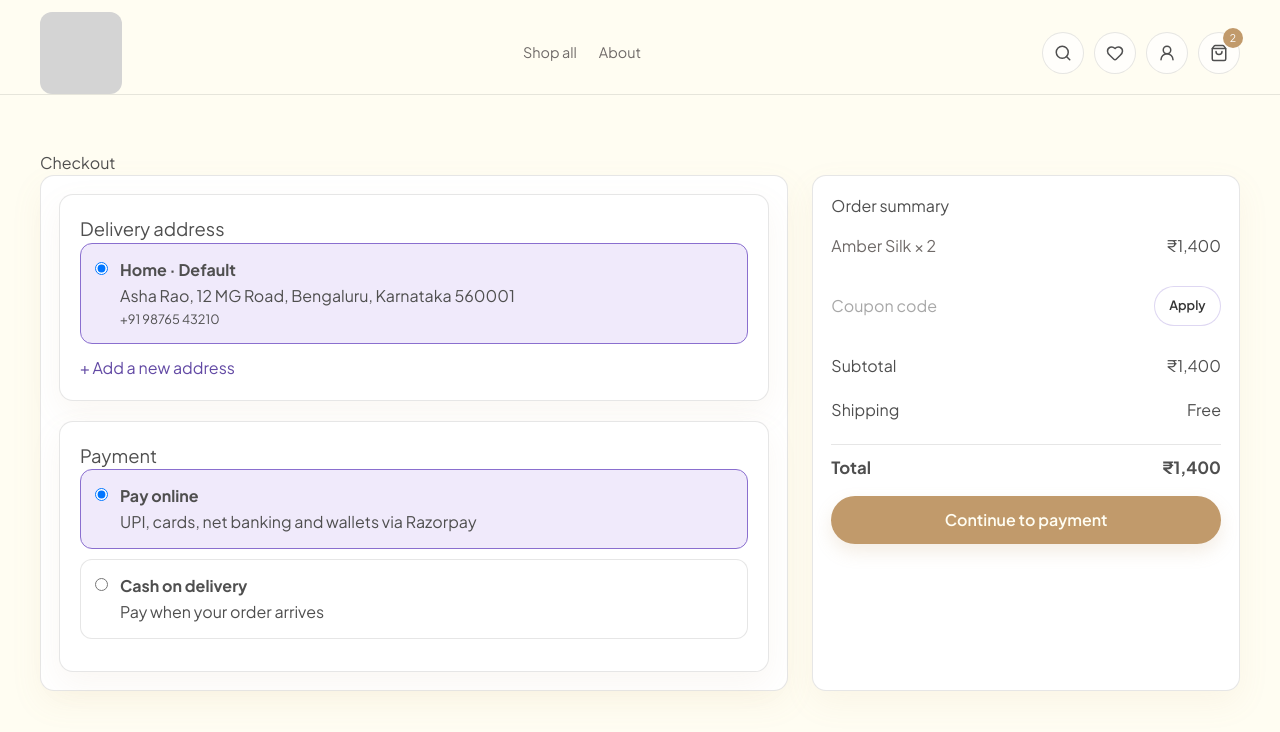
Test: checkout › shows server errors such as stock conflicts
Click the button "Continue to payment" at (1026, 520), box [831, 496, 1221, 544]
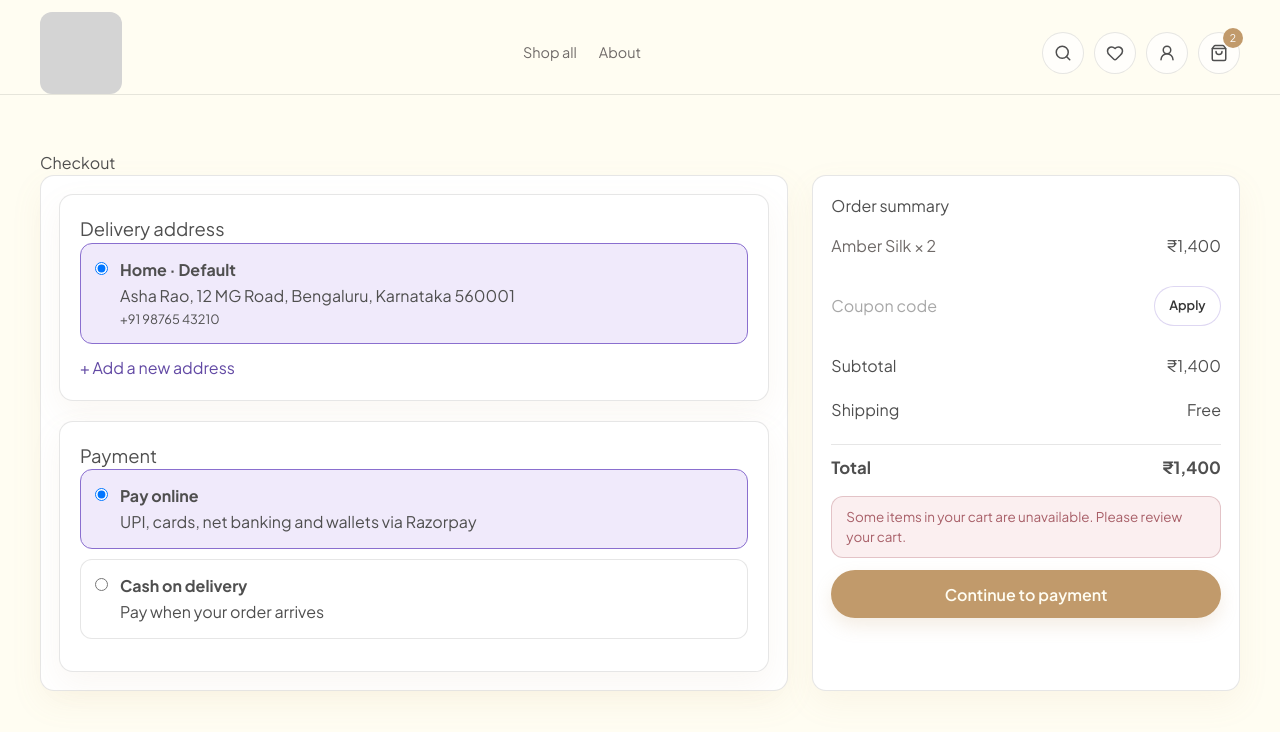
Expected: the message shows "Some items in your cart are unavailable", [846, 508, 1182, 545]
